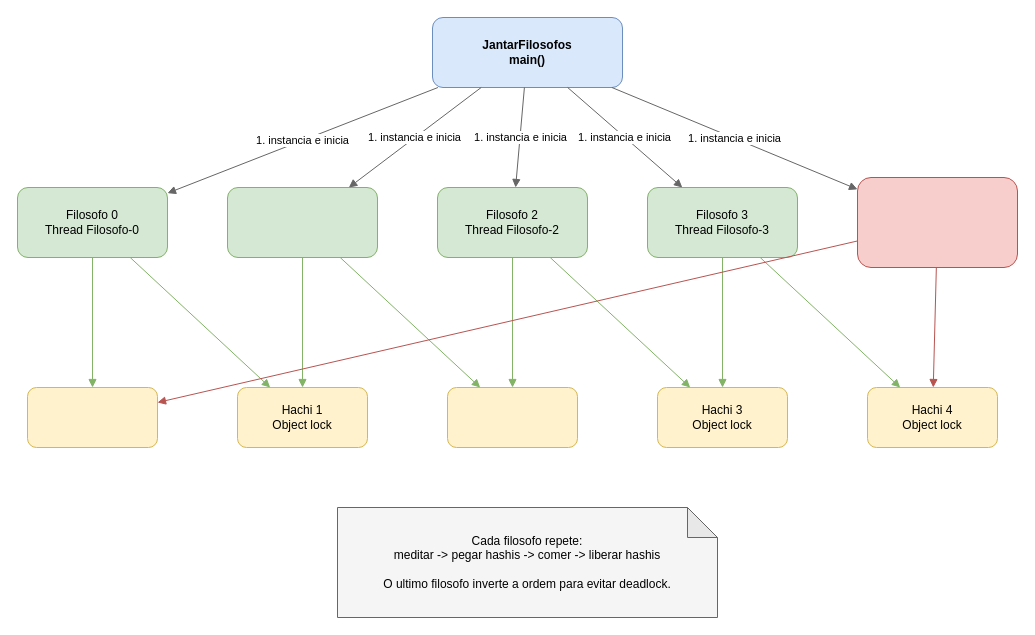
The diagram is 1035 pixels wide and 635 high, and some of its shapes have lost their labels. The centre of each missing label's shape, as x and y in pixels:
Filosofo 1 Thread Filosofo-1: (x=302, y=222)
Filosofo 4 Thread Filosofo-4 ordem invertida: (x=937, y=222)
Hachi 0 Object lock: (x=92, y=417)
Hachi 2 Object lock: (x=512, y=417)
